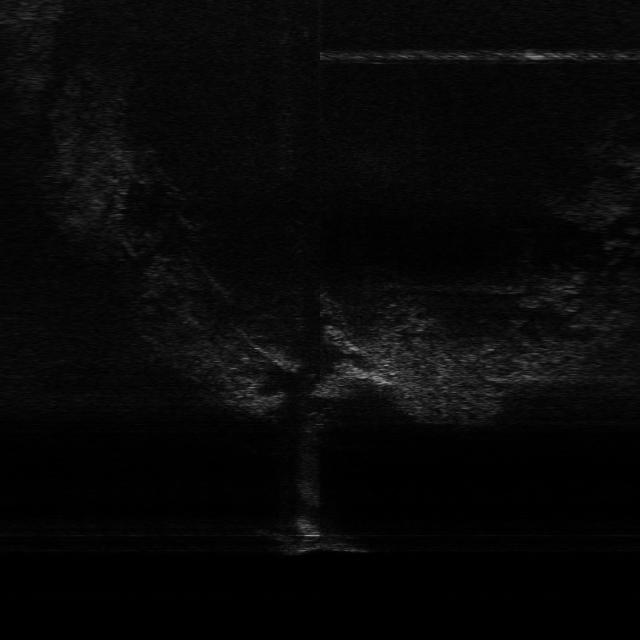plane: (257, 514, 372, 558)
